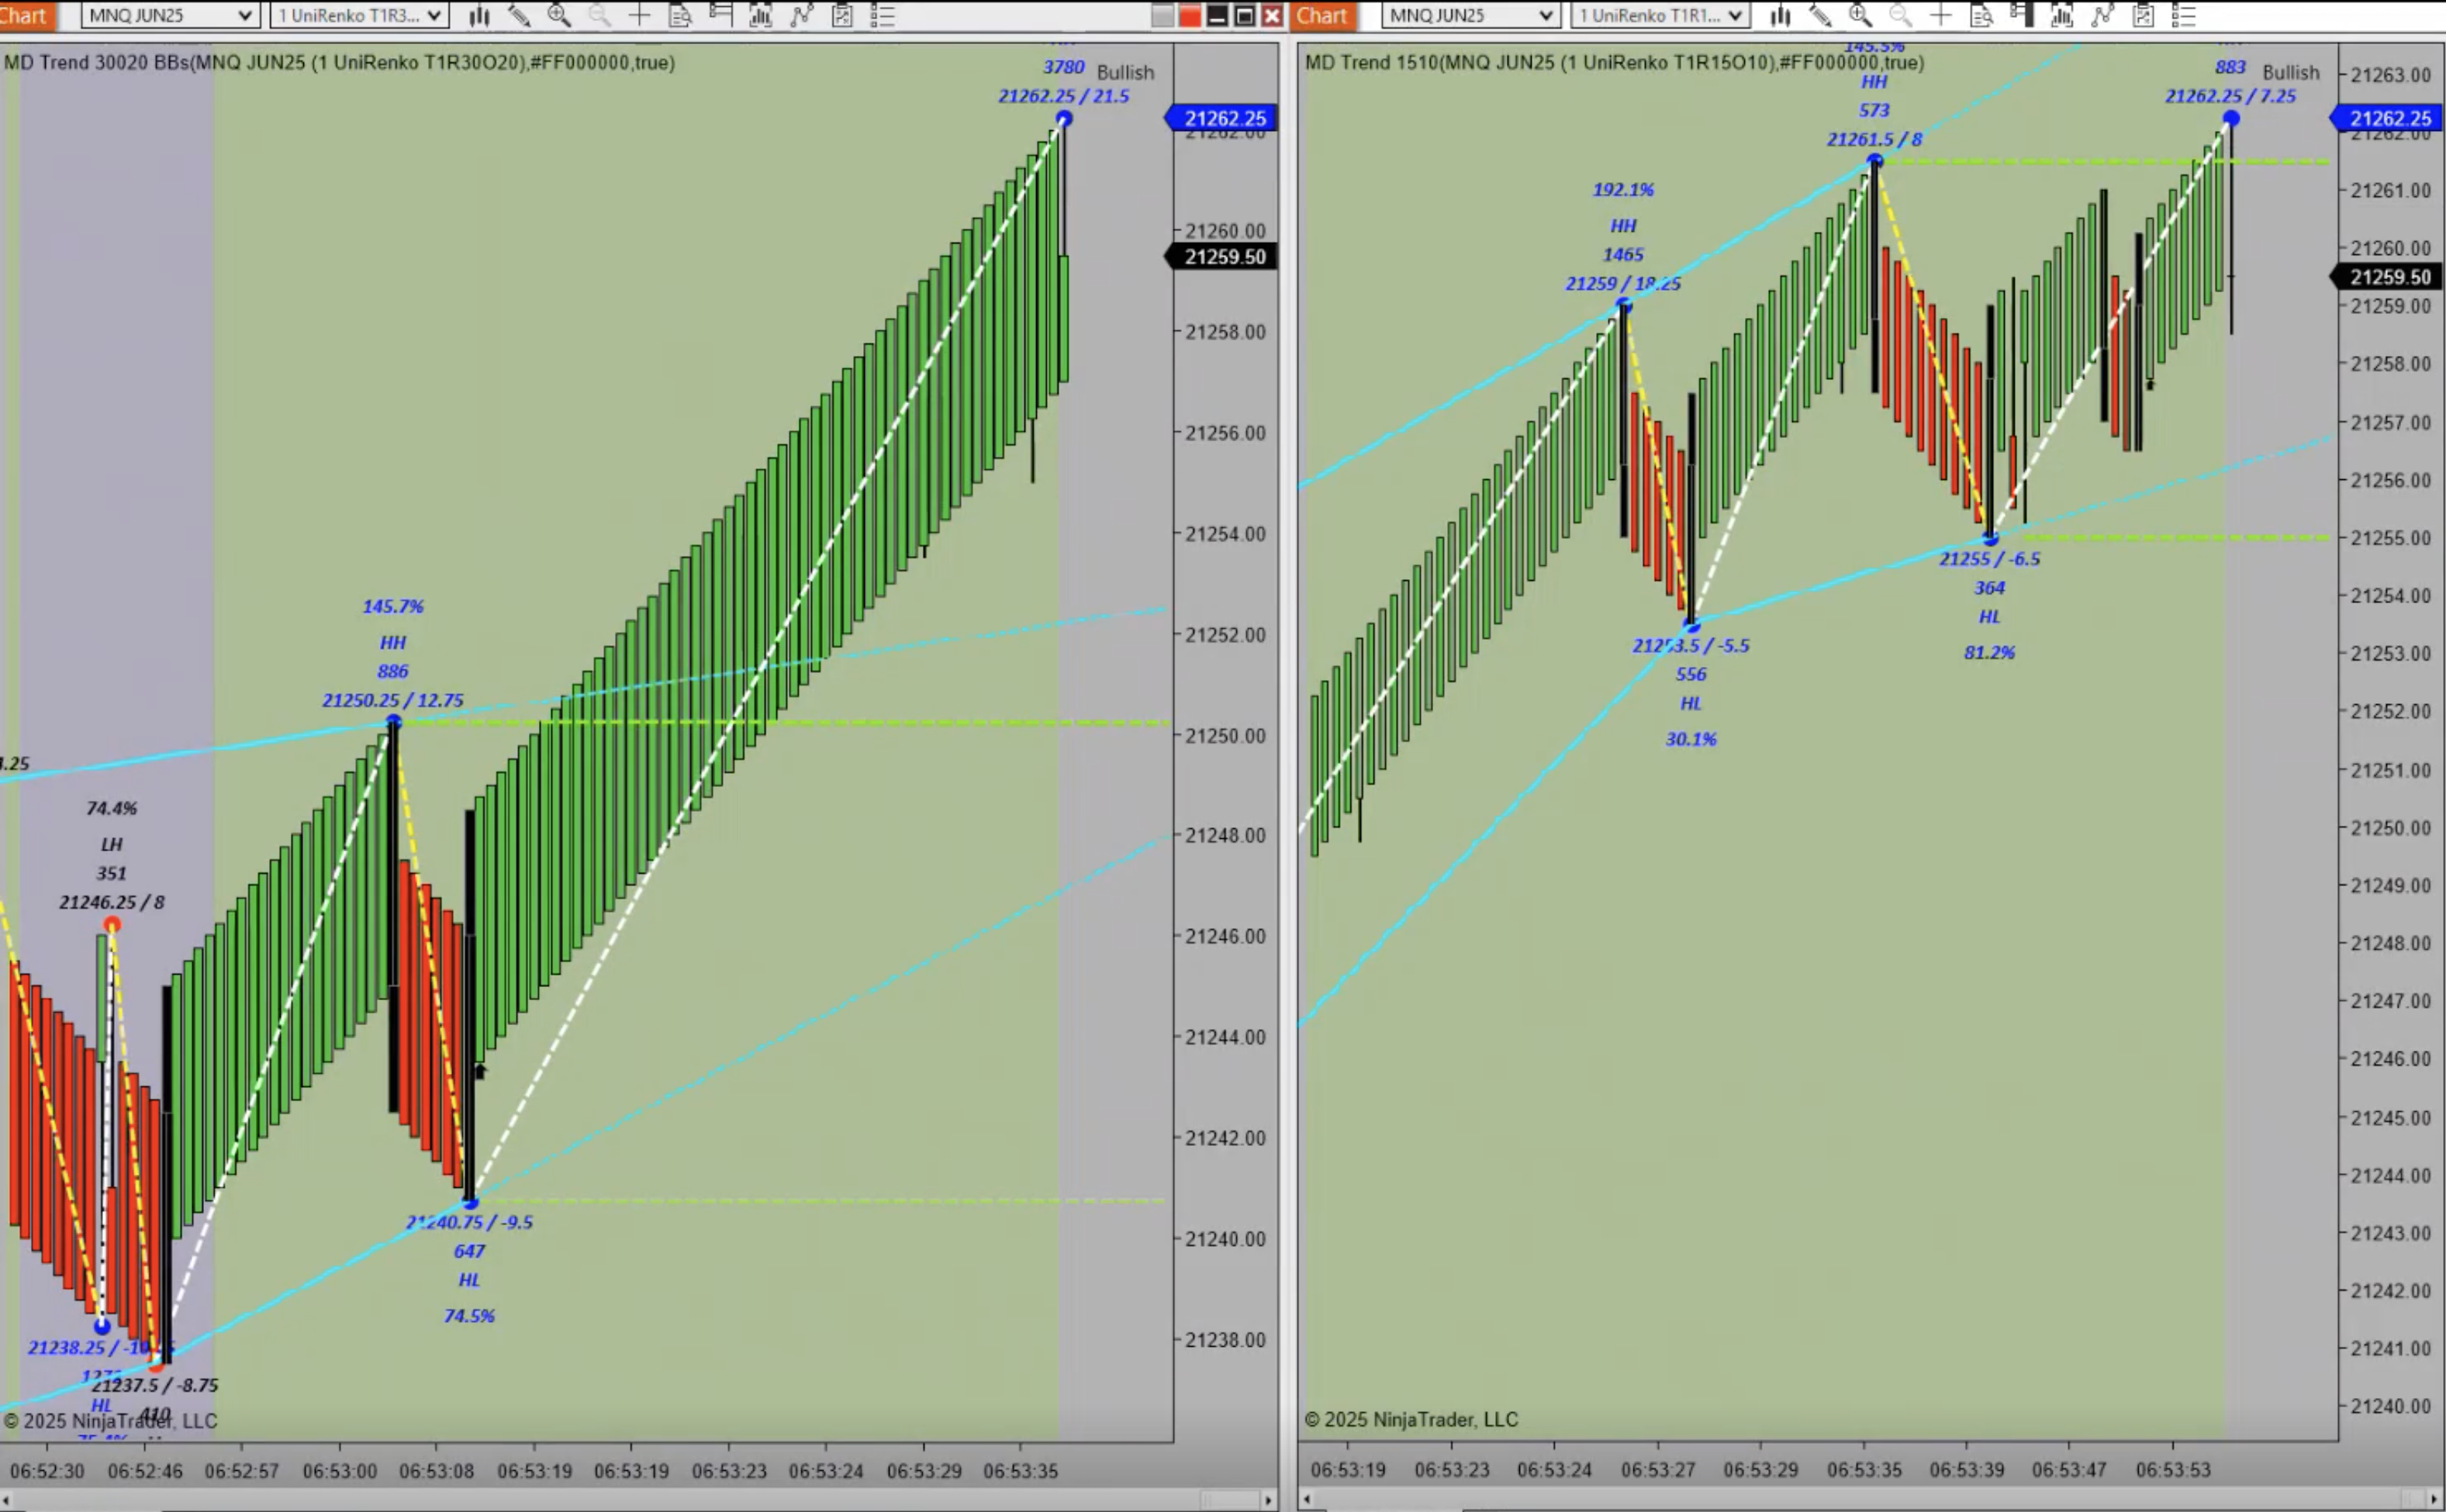candle: (386, 716, 407, 1121), (463, 807, 484, 1194), (157, 981, 175, 1357), (2133, 229, 2149, 459), (2100, 187, 2114, 433), (1983, 300, 1997, 534), (1620, 299, 1632, 546), (1869, 157, 1882, 396), (1686, 391, 1696, 625)
